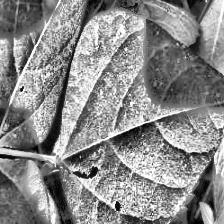ALS: (59, 4, 224, 224)
